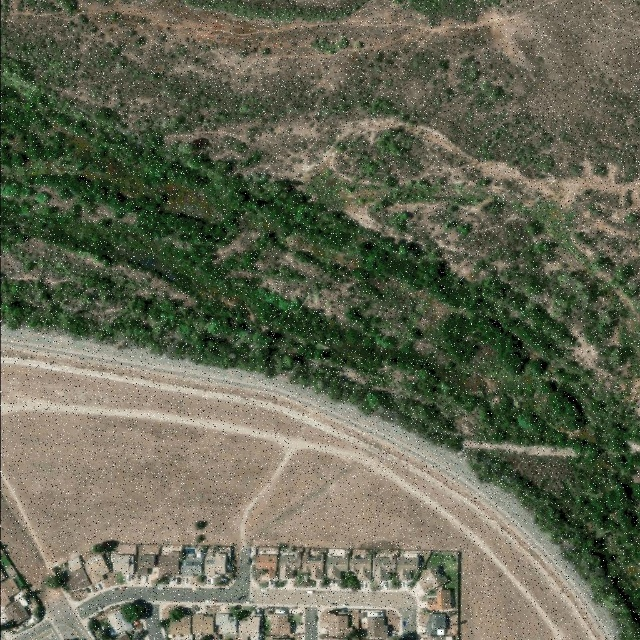vegetation: (0, 38, 640, 640), (159, 607, 193, 631), (41, 568, 66, 590), (119, 601, 142, 623), (336, 572, 360, 591)
